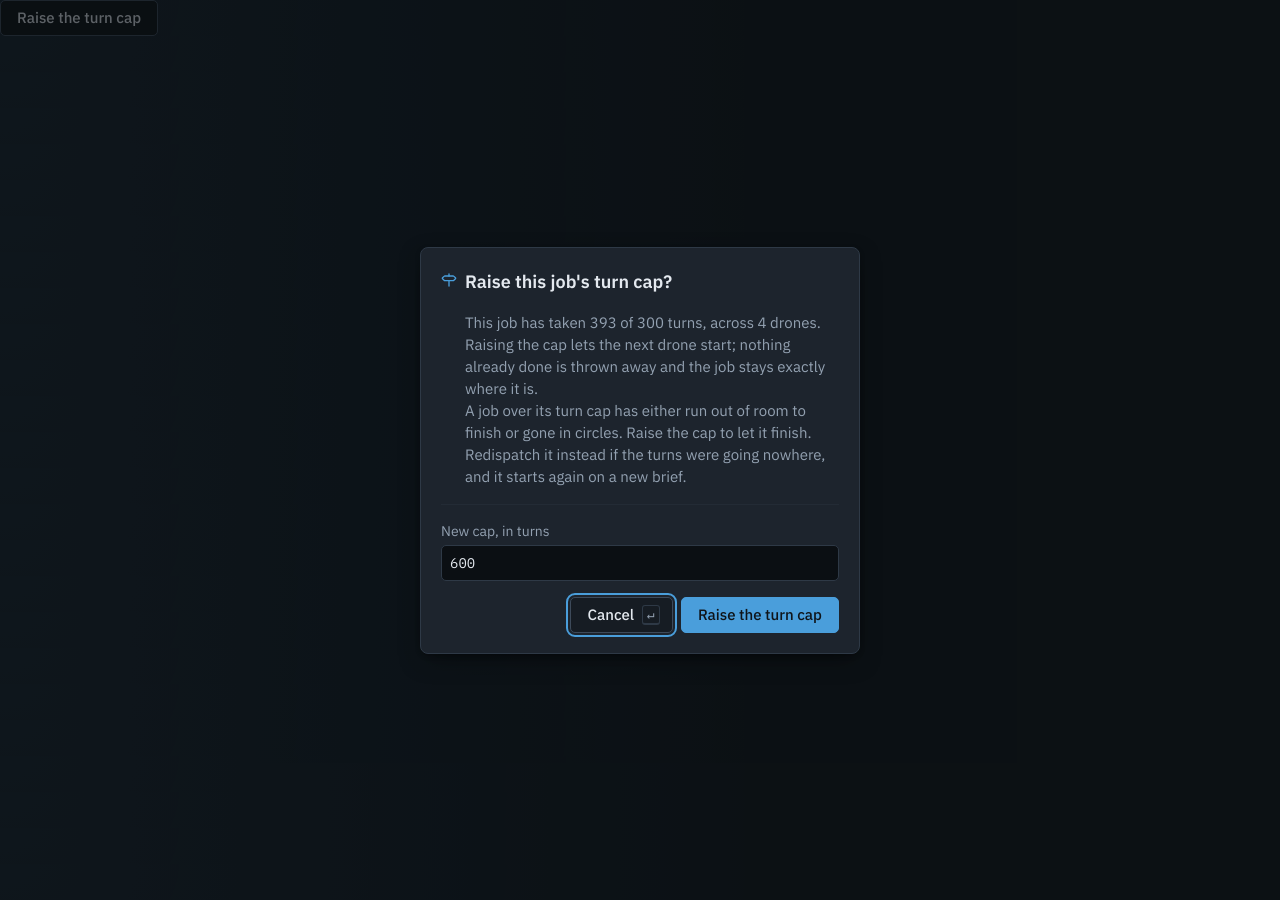
Test: a fraction of a turn is refused, because a drone takes a turn or it does not
This screenshot has width=1280, height=900.
Replace the text in the field labelled "New cap, in turns" with "400.5" at (640, 562), box left=441, top=544, right=839, bottom=580
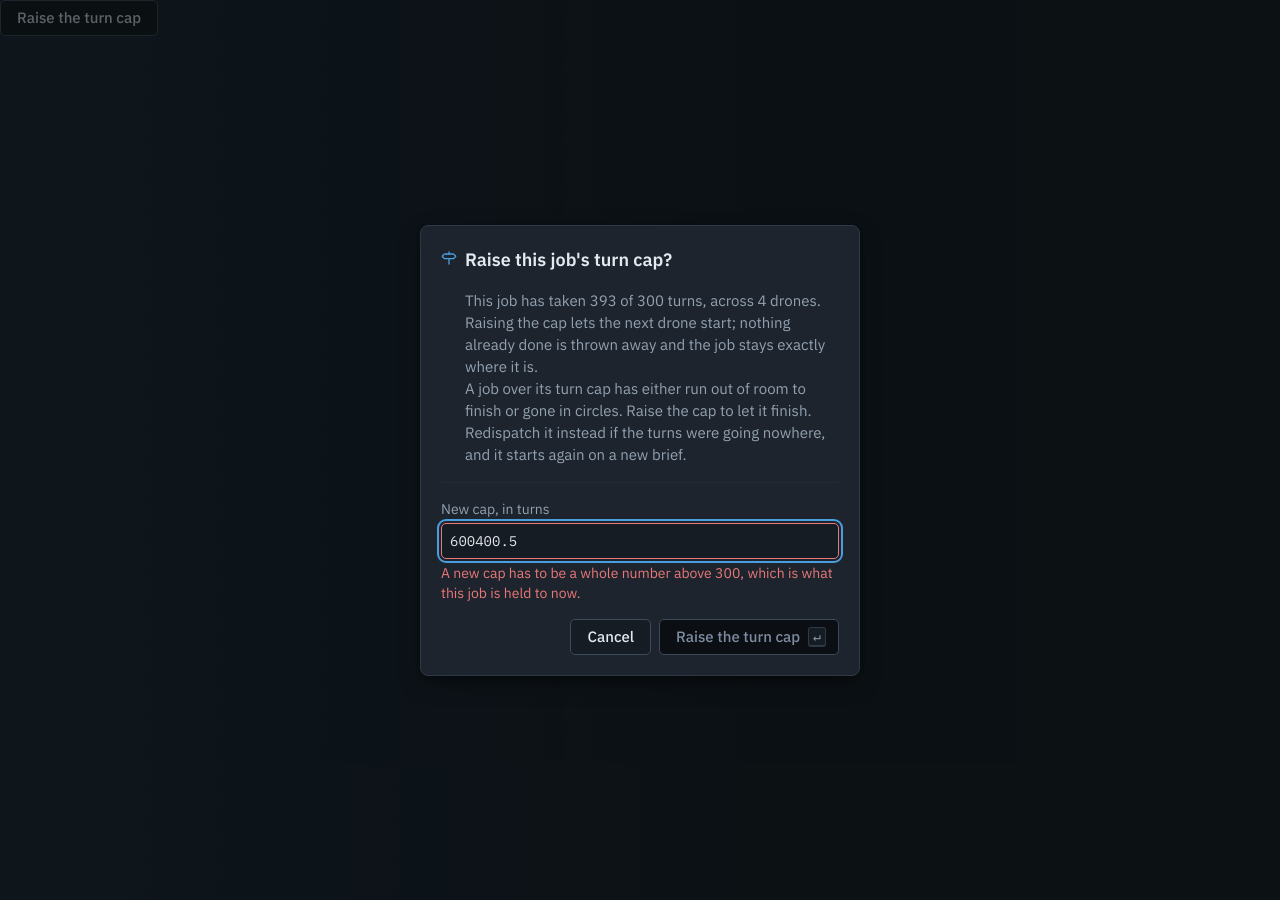
Now the button "Raise the turn cap ↵" is disabled, box left=659, top=618, right=839, bottom=654
